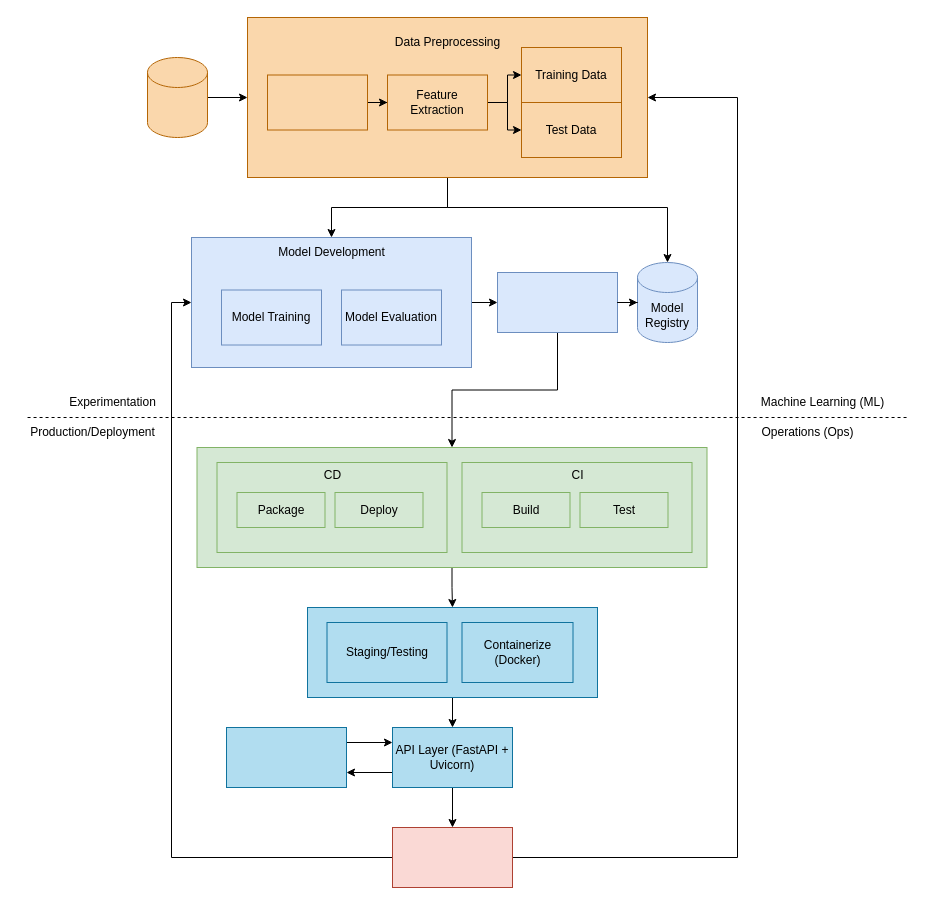
Some shapes in this 926 by 905 pixel diagram are drawn without their labels. Each missing label, with the centre of its shape:
"Client" goes at pixel 286 757.
"Data" goes at pixel 177 97.
"Feature Engineering" goes at pixel 317 102.
"Model Deployment" goes at pixel 557 302.
"Monitor" goes at pixel 452 857.
